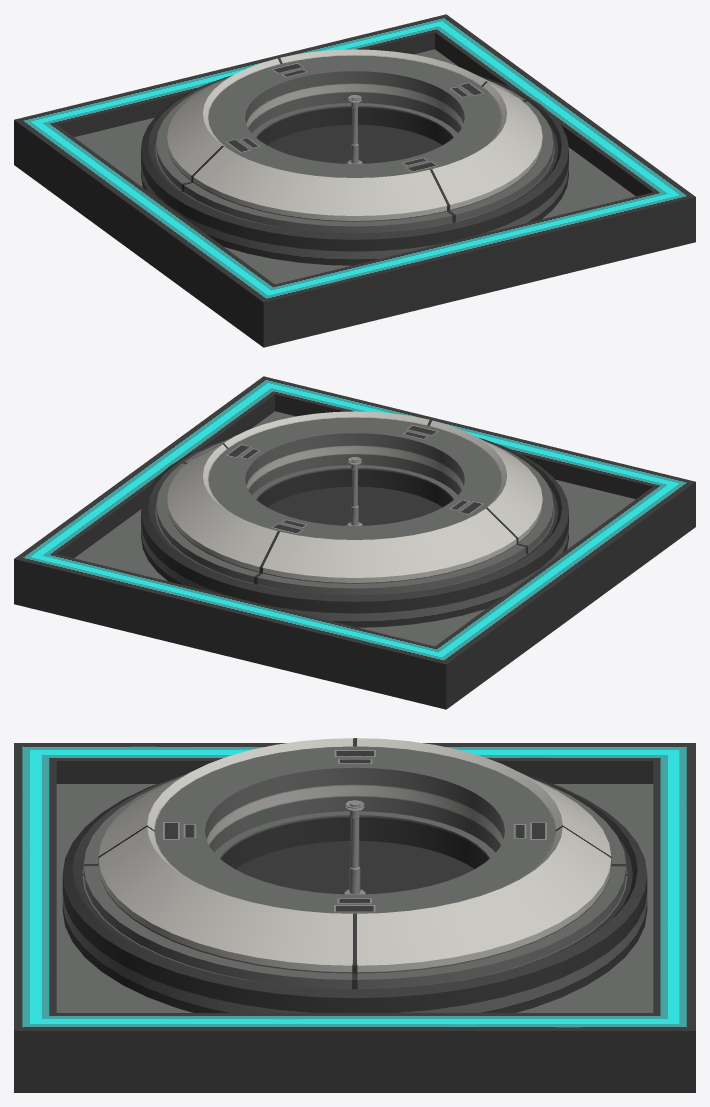
Rendered from laser_receiver.glb.
The picture shows the model from 3 angles, top to bottom: view 1: azimuth 30°, elevation 25°; view 2: azimuth 150°, elevation 25°; view 3: azimuth 270°, elevation 25°; orthographic projection. The views are drawn at different scales.
Visible parts, largest first — view 1: EDITOR_laserrecw; view 2: EDITOR_laserrecw; view 3: EDITOR_laserrecw.
Boxes of the visible parts, x1,y1,x2,y2 form: EDITOR_laserrecw: [14, 14, 695, 347]; EDITOR_laserrecw: [14, 376, 695, 709]; EDITOR_laserrecw: [14, 738, 695, 1092].
Bounding box in the file's own units: 0.8 × 0.1883 × 0.8.
Materials: 1 (1 with a texture image).
